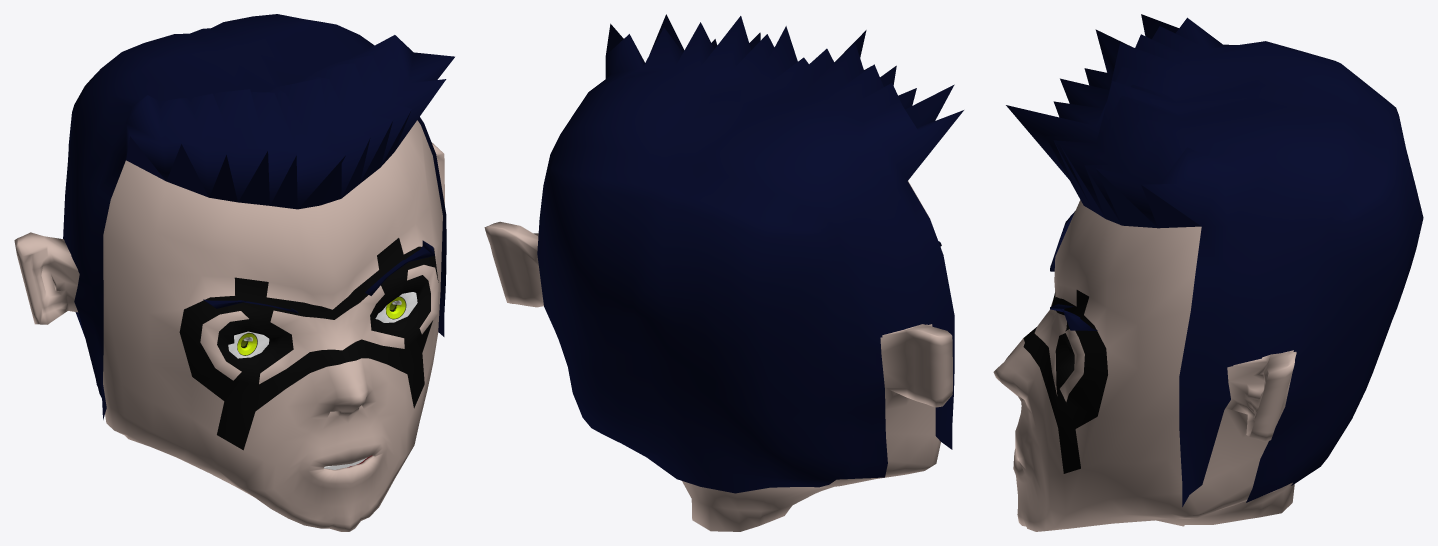
The model's file is player_speng_head.glb.
3 renders of one model, left to right at view 1: azimuth 30°, elevation 25°; view 2: azimuth 150°, elevation 25°; view 3: azimuth 270°, elevation 25°, orthographic. The views are drawn at different scales.
Visible parts, largest first — view 1: SpeangBody; view 2: SpeangBody; view 3: SpeangBody.
Part boxes in pixels (x1=…): SpeangBody: x1=14, y1=14, x2=454, y2=531; SpeangBody: x1=484, y1=14, x2=963, y2=531; SpeangBody: x1=993, y1=14, x2=1423, y2=531.
Bounding box in the file's own units: 0.5591 × 0.534 × 0.46.
Materials: 7 (1 with a texture image).
